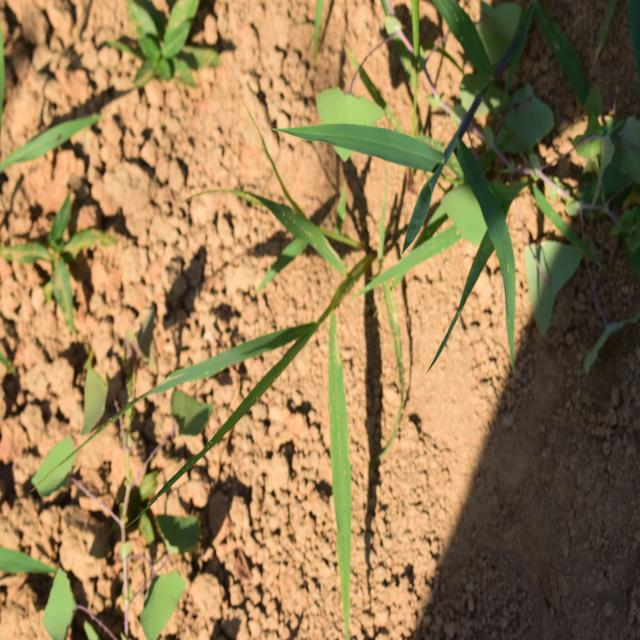green_foxtail: (188, 252, 377, 580)
